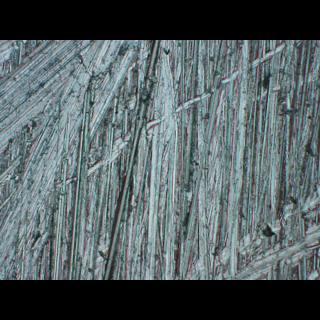d: (0, 40, 140, 274)
